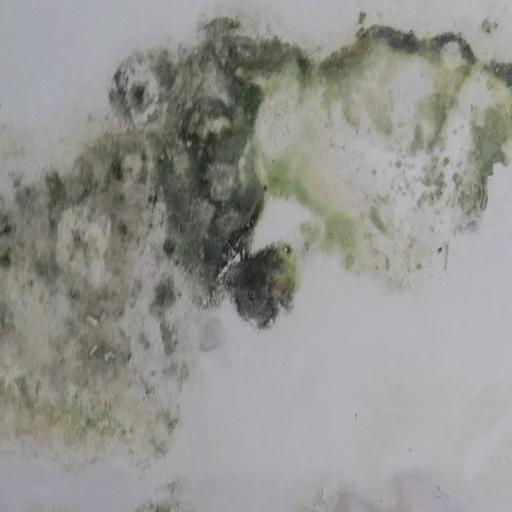algae: (23, 17, 512, 462)
